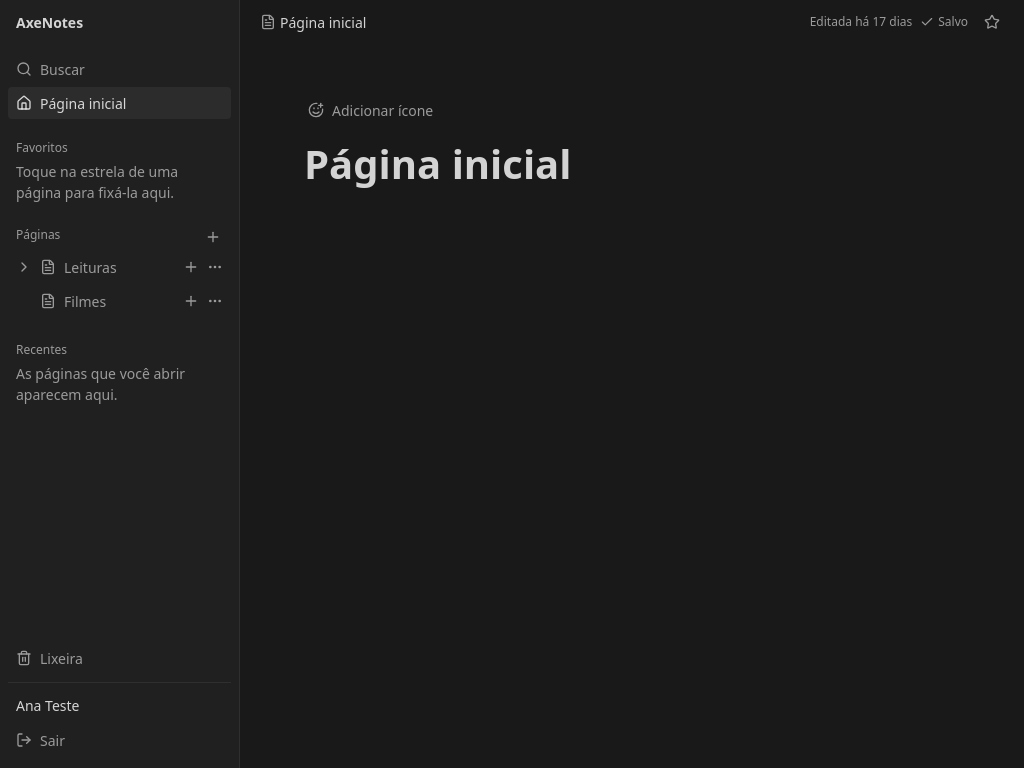
Scenario: mover para a lixeira pela árvore › puts back only the rows it removed, reloads the list and warns when the server fails
Step 1. Click the button named "Mais ações de Leituras" → (215, 267), box [203, 253, 227, 281]
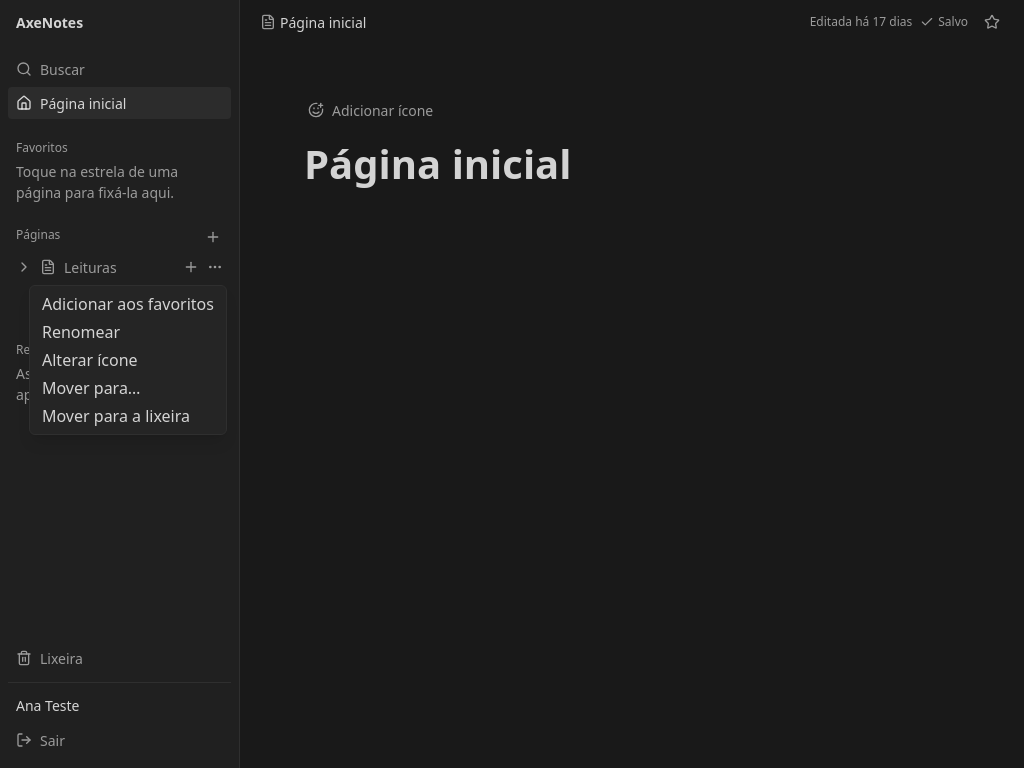
Step 2. Click the menu item "Mover para a lixeira" → (116, 416), box [42, 405, 190, 427]
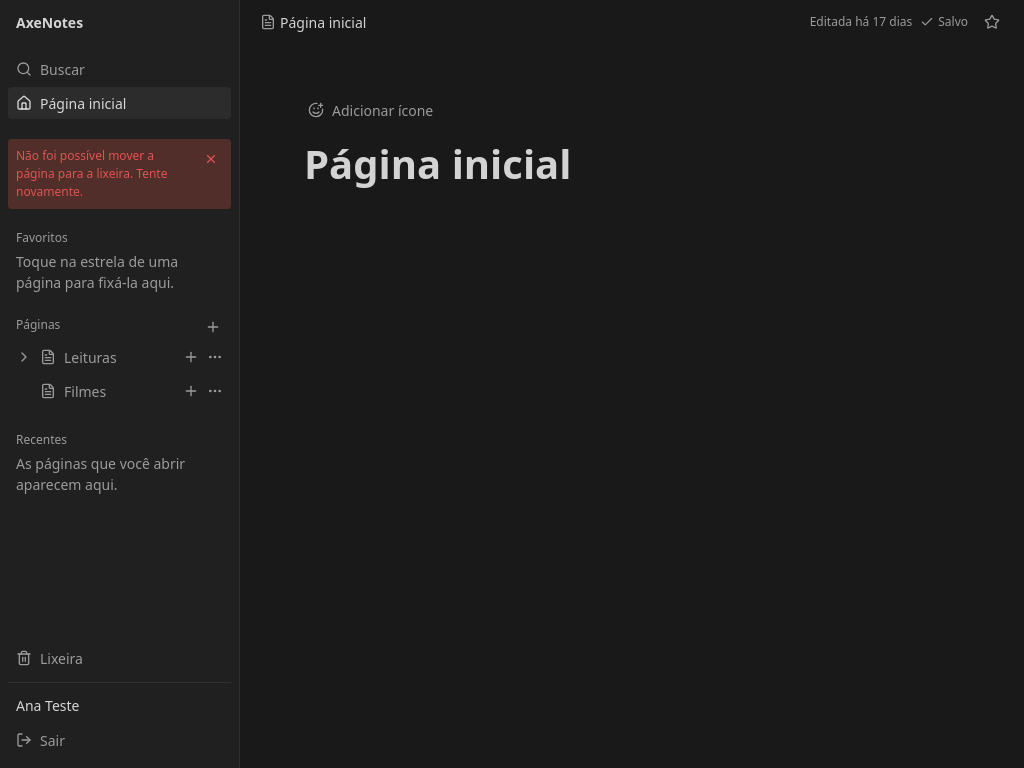
Expected: the list item "Leituras" is shown, [8, 341, 231, 373]
Now the message "Não foi possível mover a página para a lixeira. Tente novamente." is shown, box [8, 139, 231, 209]
